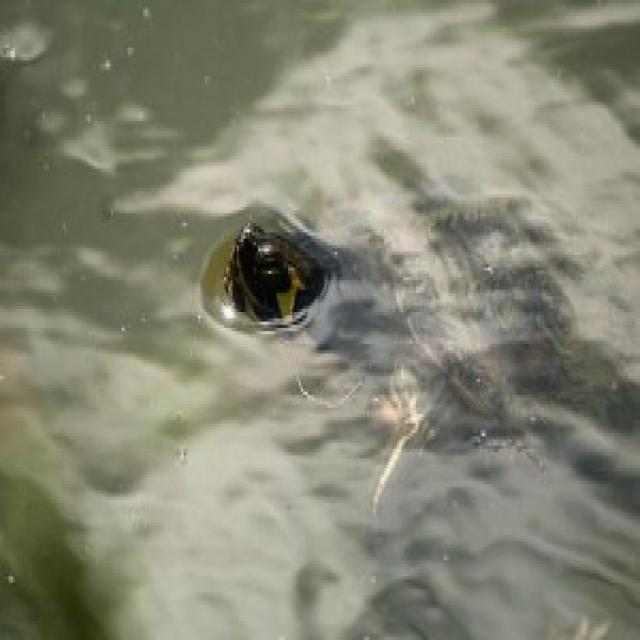Sea turtle: (202, 210, 623, 419)
